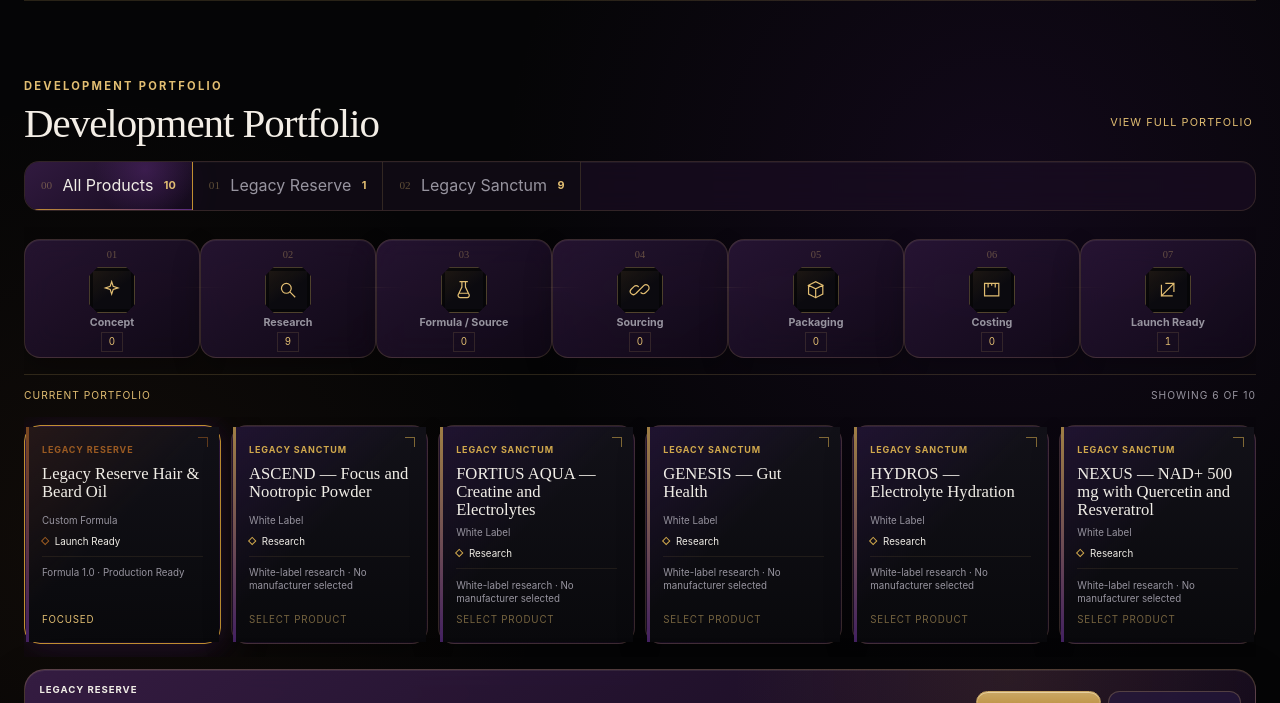
Test: DevelopmentPortfolio › filters by product line and stage without a page reload
Click the button "02 Legacy Sanctum 9": [482, 186] box [383,162,582,210]
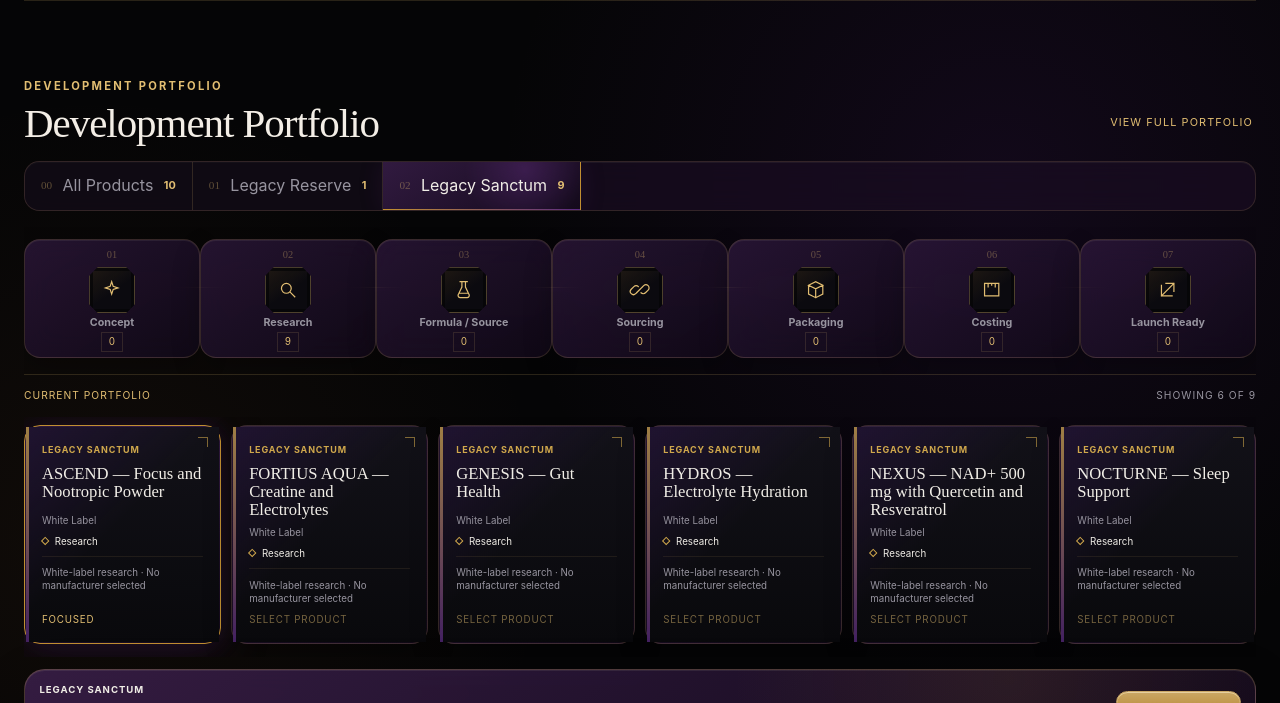
expect the 1st text "White-label research · No manufacturer selected" is shown: met, box [42,556,203,605]
expect the text "Showing 6 of 9" is shown: met, box [1156,387,1256,404]
Click the button with aria-label "Launch Ready, 0 products": [1168, 298] box [1080,240,1256,358]
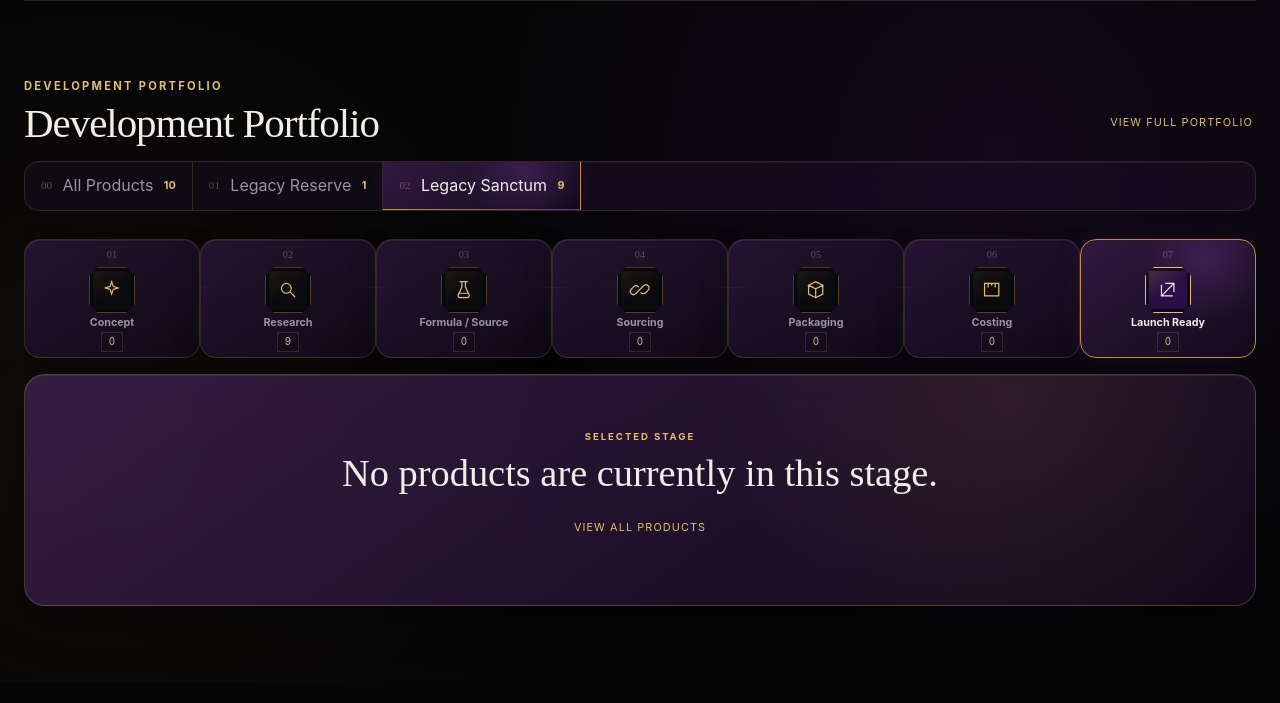
expect the heading "No products are currently in this stage." is shown: met, box [342,454,938,493]
